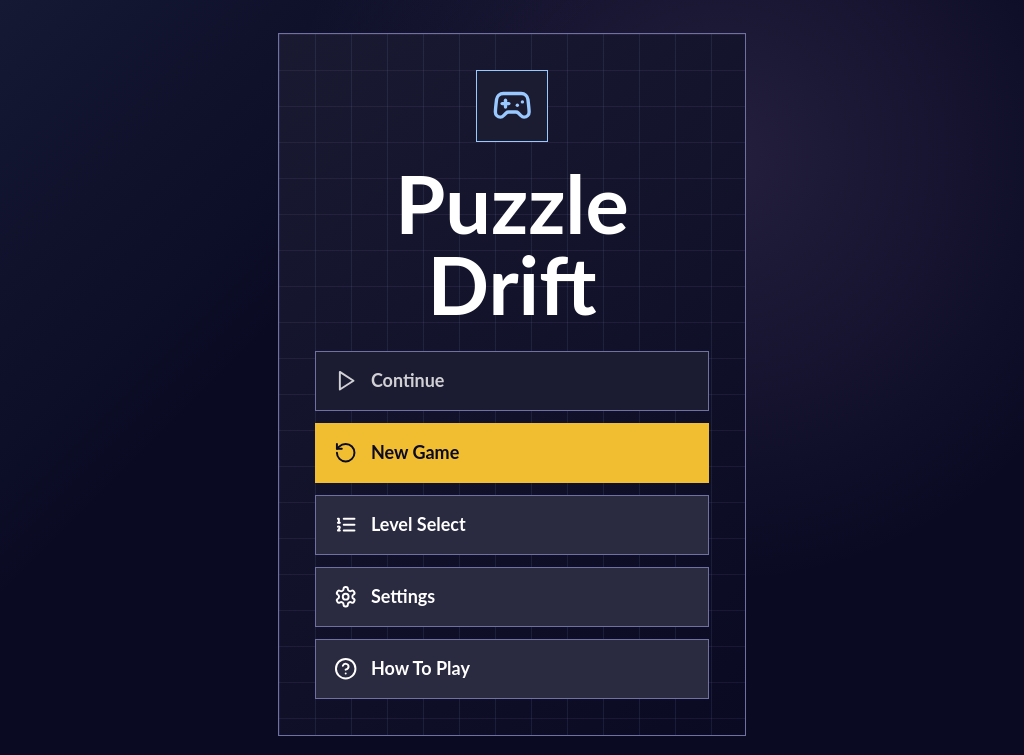
Test: App › shows all campaign levels without filter controls
This screenshot has width=1024, height=755.
Click the button "Level Select" at (418, 524), box top-left (315, 495), bottom-right (709, 554)
(page scrolled)
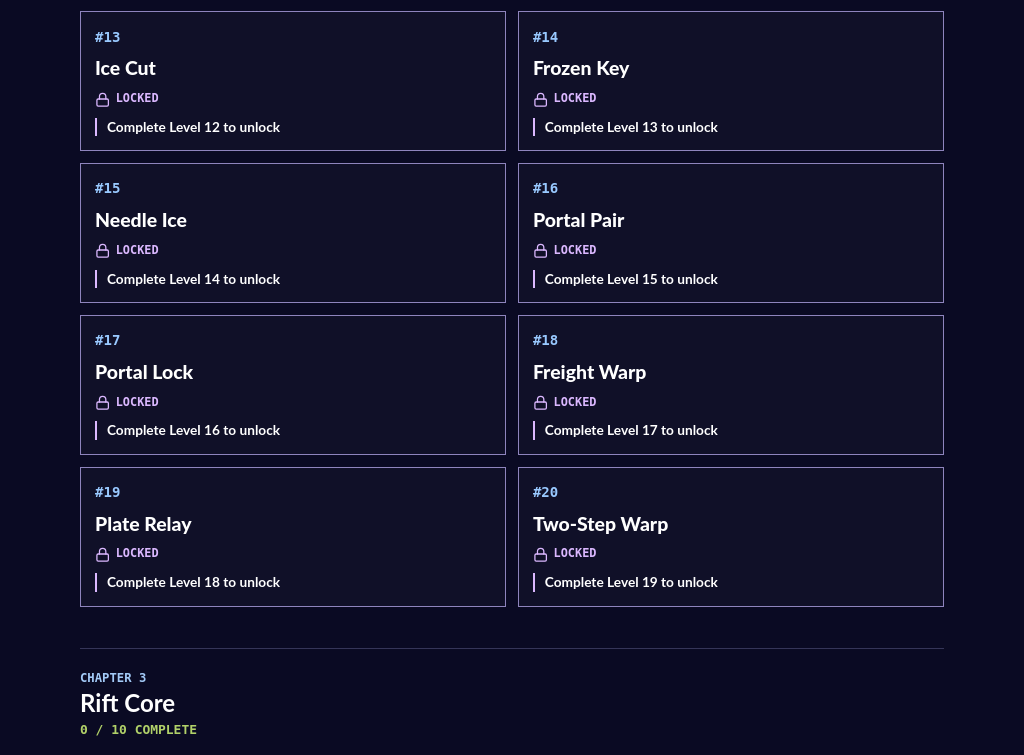
Check: the button with aria-label "Level 17: Portal Lock locked" is shown, box top-left (80, 315), bottom-right (506, 455)
